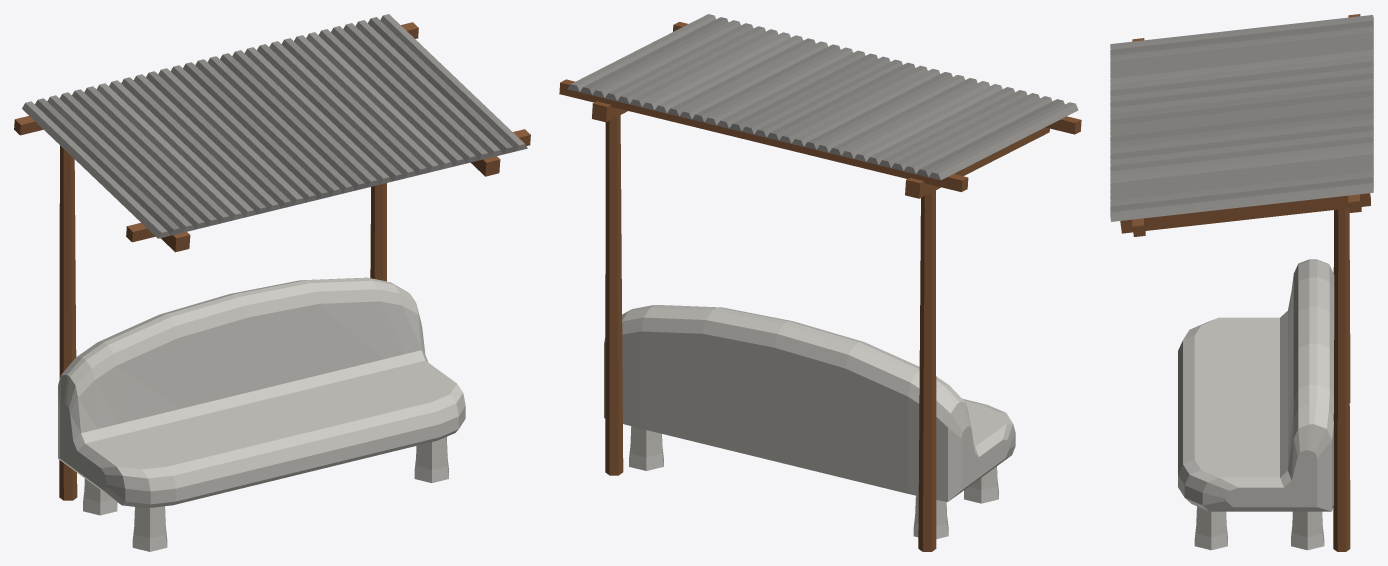
Rendered from shaded-bench-1078c2.glb.
3 views of the same model, side by side, from view 1: azimuth 30°, elevation 25°; view 2: azimuth 150°, elevation 25°; view 3: azimuth 270°, elevation 25° (orthographic). The views are drawn at different scales.
Visible parts, largest first — view 1: shaded-bench-body; view 2: shaded-bench-body; view 3: shaded-bench-body.
Part boxes in pixels (box(x1,y1,x2,y2)): shaded-bench-body: box(14, 14, 530, 551); shaded-bench-body: box(559, 14, 1081, 551); shaded-bench-body: box(1110, 14, 1373, 551).
Bounding box in the file's own units: 2.26 × 2.11 × 1.34.
